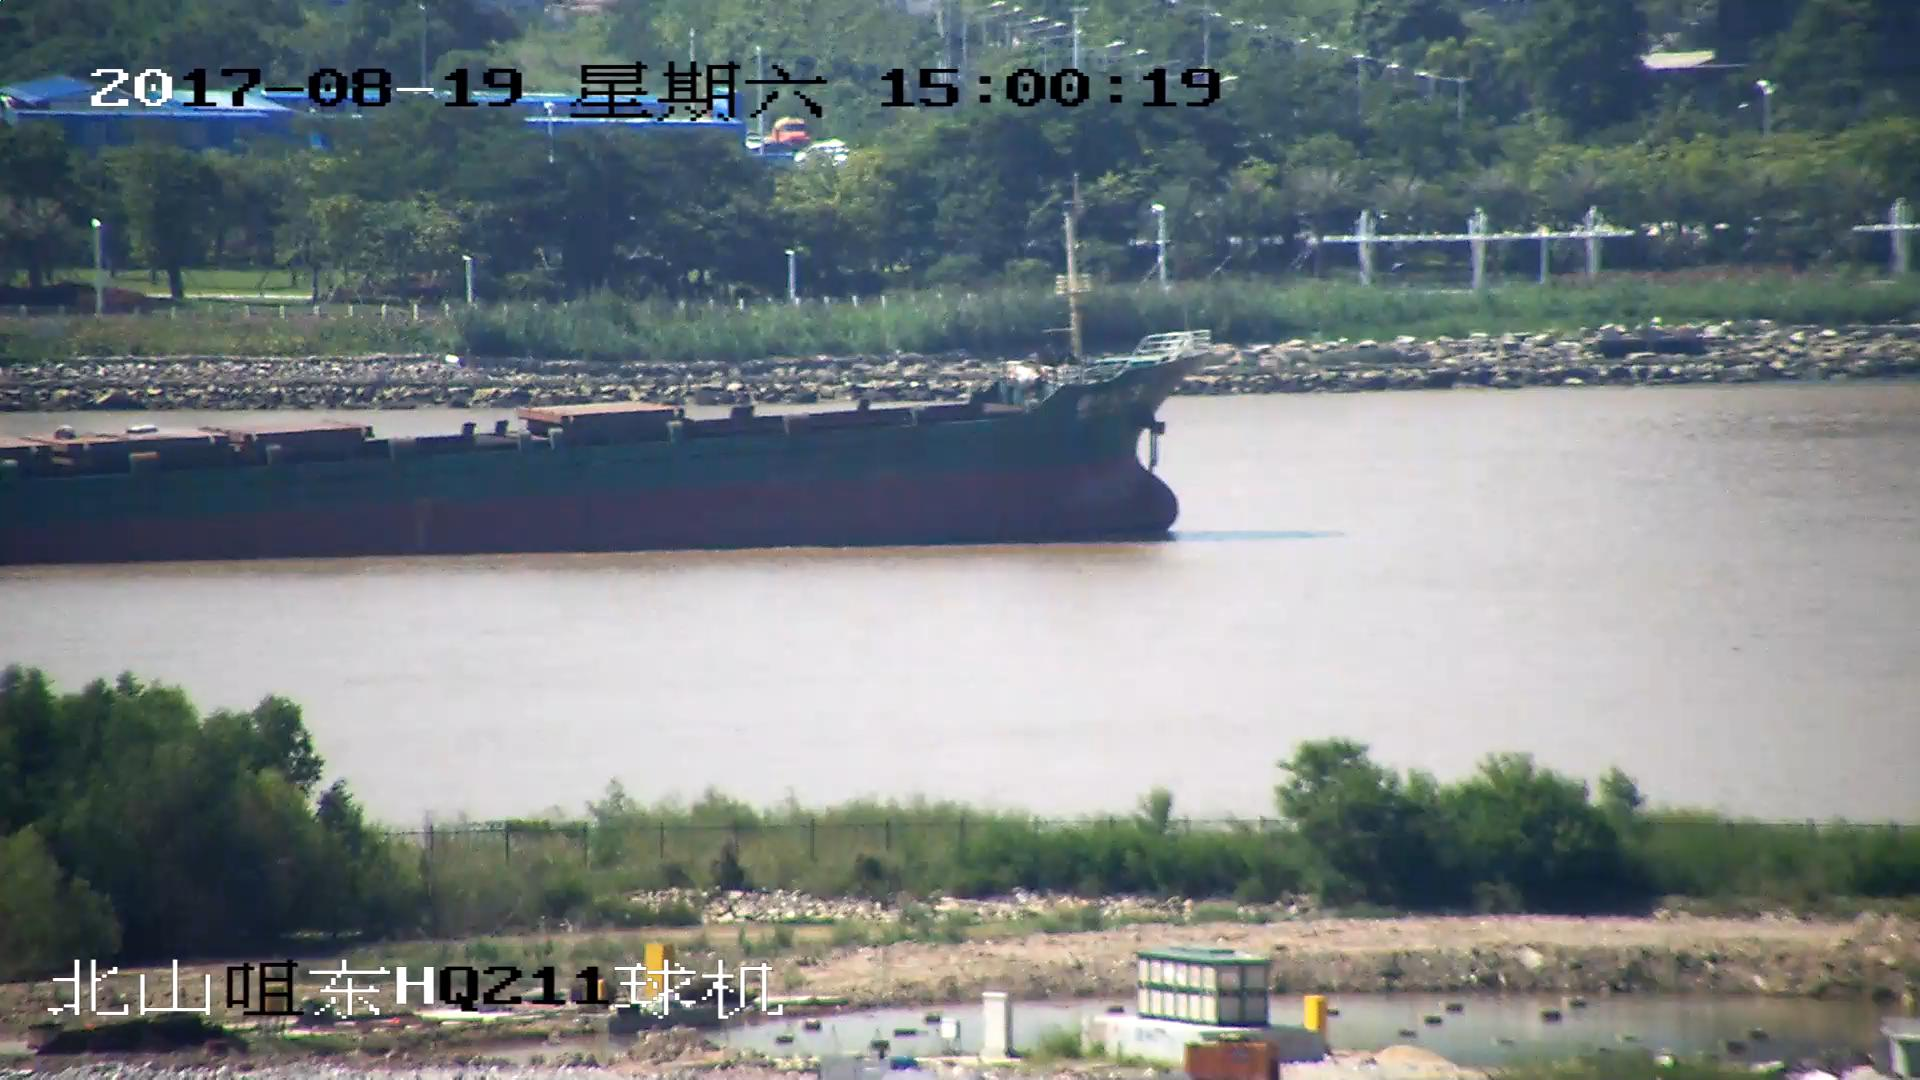general cargo ship: (1, 329, 1202, 552)
